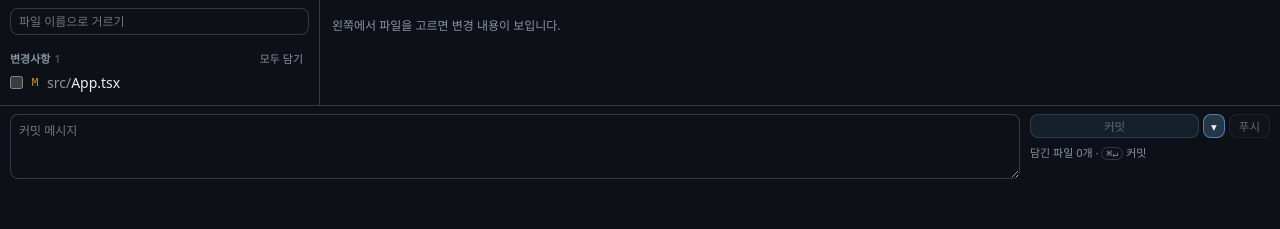
Test: 파일을 고르면 — 탭을 만들지 않는다 › 고른 것을 알리고 그 자리에서 diff 를 읽는다
The width and height of the screenshot is (1280, 229).
Click the button "src/App.tsx".
click(164, 82)  # box top-left (47, 73), bottom-right (280, 92)
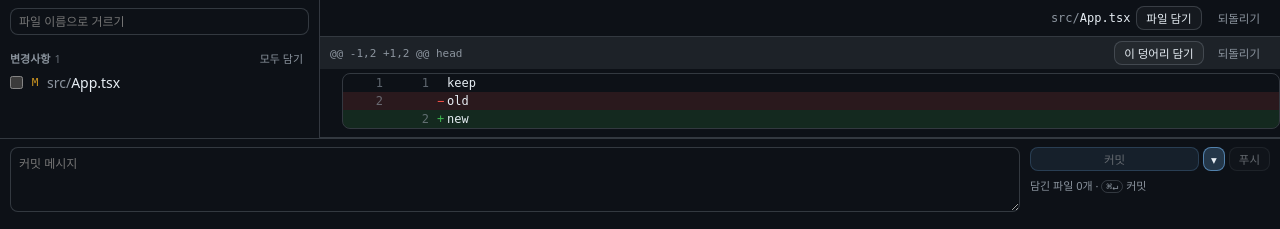
Now the text "@@ -1,2 +1,2 @@ head" is shown, box top-left (330, 46), bottom-right (462, 60)
